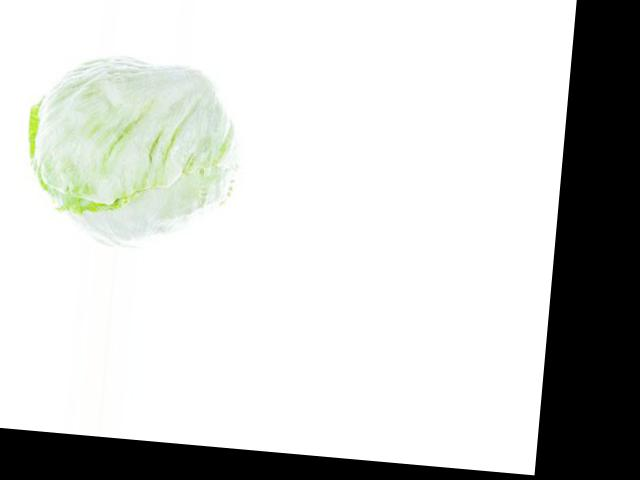lettuce: (36, 60, 196, 217)
